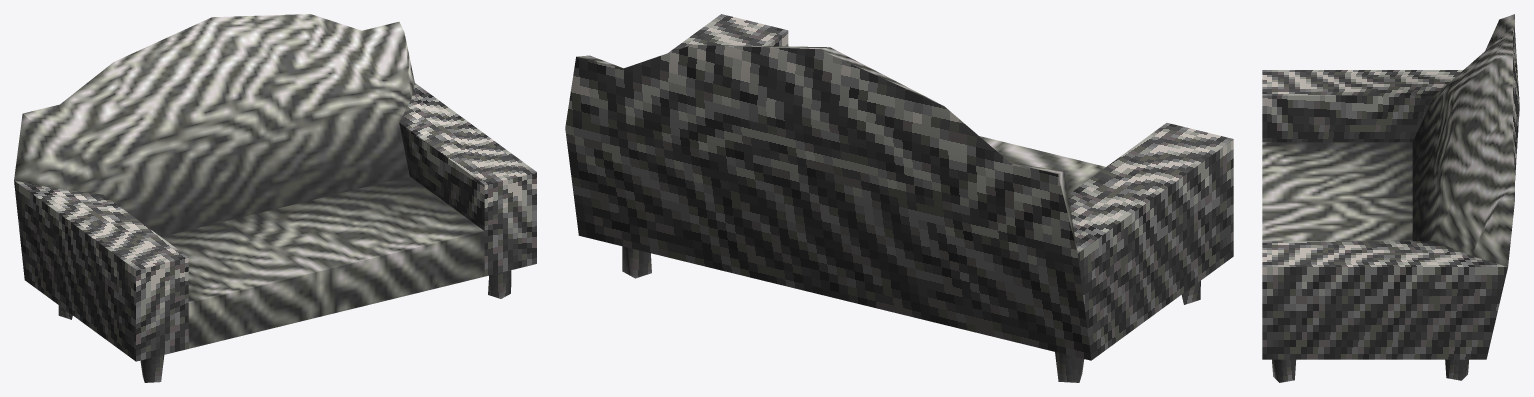
File: Zebra Print Sofa.obj
3 views of the same model, side by side, from view 1: azimuth 30°, elevation 25°; view 2: azimuth 150°, elevation 25°; view 3: azimuth 270°, elevation 25° (orthographic). The views are drawn at different scales.
Parts seen in each view (by area): view 1: polygon0, polygon1; view 2: polygon1, polygon0; view 3: polygon1, polygon0.
Part boxes in pixels (<box>): polygon0: <box>14,14,484,348</box>; polygon1: <box>14,83,536,382</box>; polygon1: <box>565,14,1233,382</box>; polygon0: <box>577,44,1105,250</box>; polygon1: <box>1262,28,1519,382</box>; polygon0: <box>1262,14,1514,266</box>.
Bounding box in the file's own units: 5.42 × 3.05 × 2.99.
Materials: 2 (2 with a texture image).
